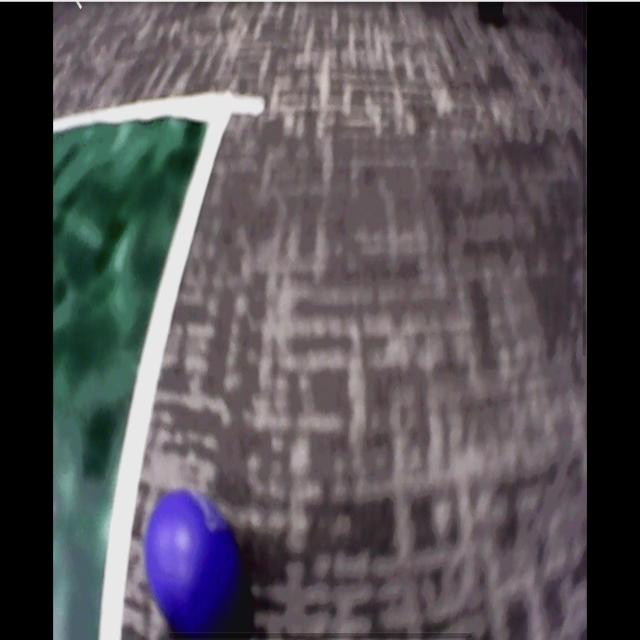ball: (147, 492, 240, 636)
